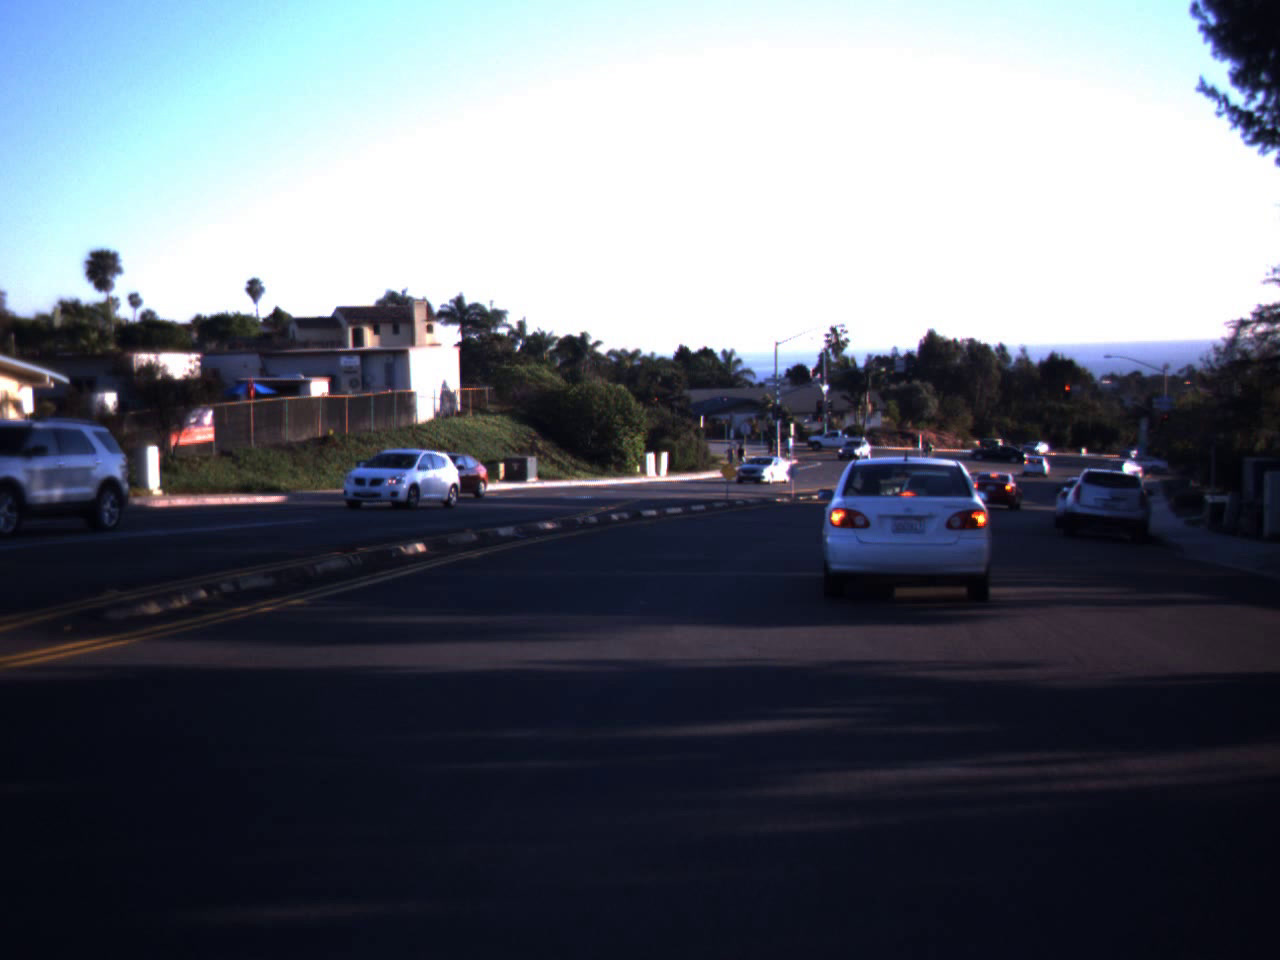stop: (1061, 384, 1073, 402)
